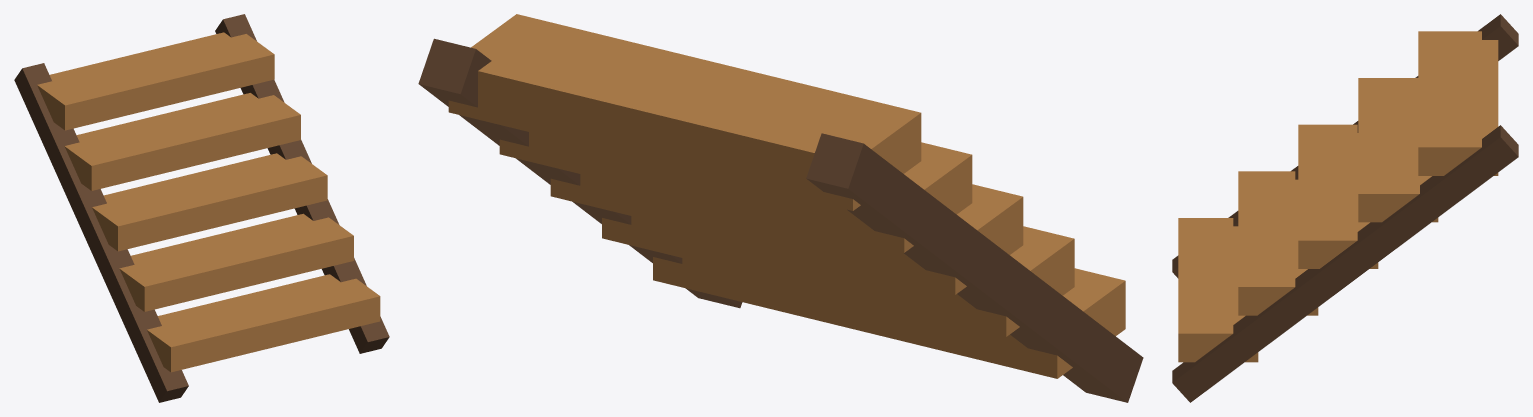
Rendered from main_dock_kit__stairs.glb.
The picture shows the model from 3 angles, left to right: view 1: azimuth 30°, elevation 25°; view 2: azimuth 150°, elevation 25°; view 3: azimuth 270°, elevation 25°; orthographic projection. The views are drawn at different scales.
Visible parts, largest first — view 1: stairs__wood2.001, stairs__wood_dark.001; view 2: stairs__wood2.001, stairs__wood_dark.001; view 3: stairs__wood2.001, stairs__wood_dark.001.
Boxes of the visible parts, x1,y1,x2,y2 form: stairs__wood2.001: (37, 32, 380, 372); stairs__wood_dark.001: (14, 14, 389, 402); stairs__wood2.001: (448, 14, 1125, 378); stairs__wood_dark.001: (418, 38, 1143, 402); stairs__wood2.001: (1178, 31, 1498, 362); stairs__wood_dark.001: (1172, 14, 1518, 402).
Bounding box in the file's own units: 1.02 × 1.03 × 1.21.
